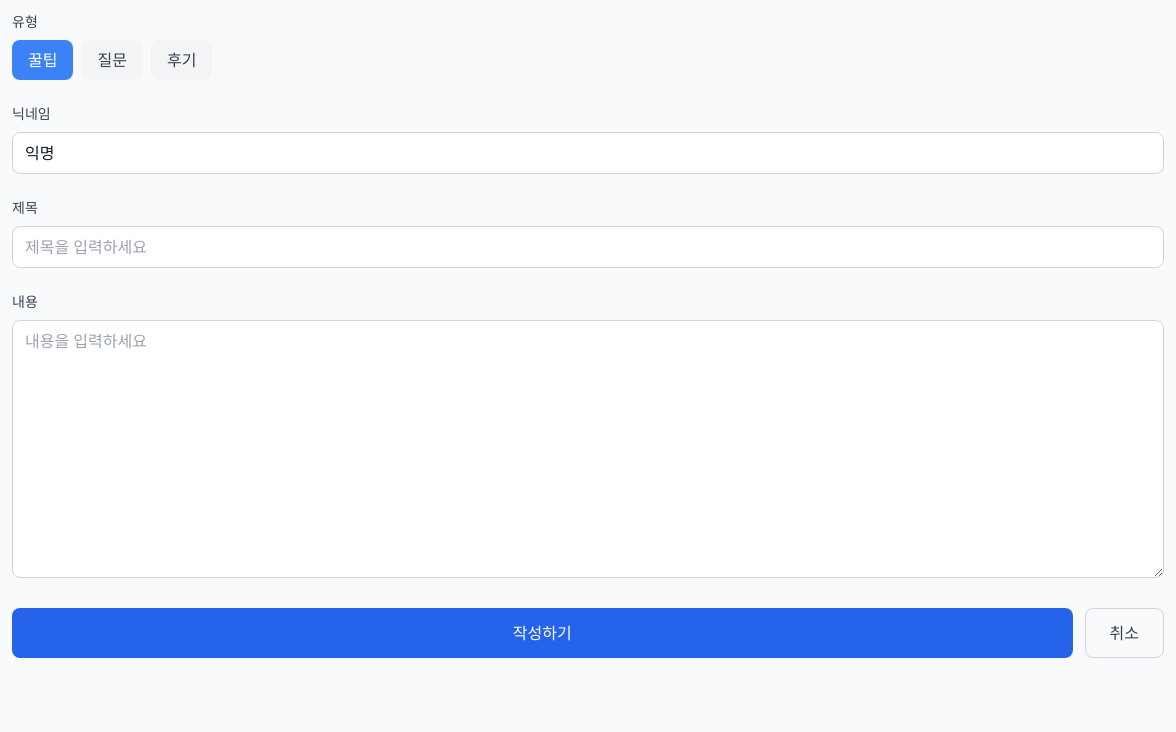
Test: PostForm › should show error when title is empty
Click the button "작성하기".
click(542, 633)  # box [12,608,1072,658]
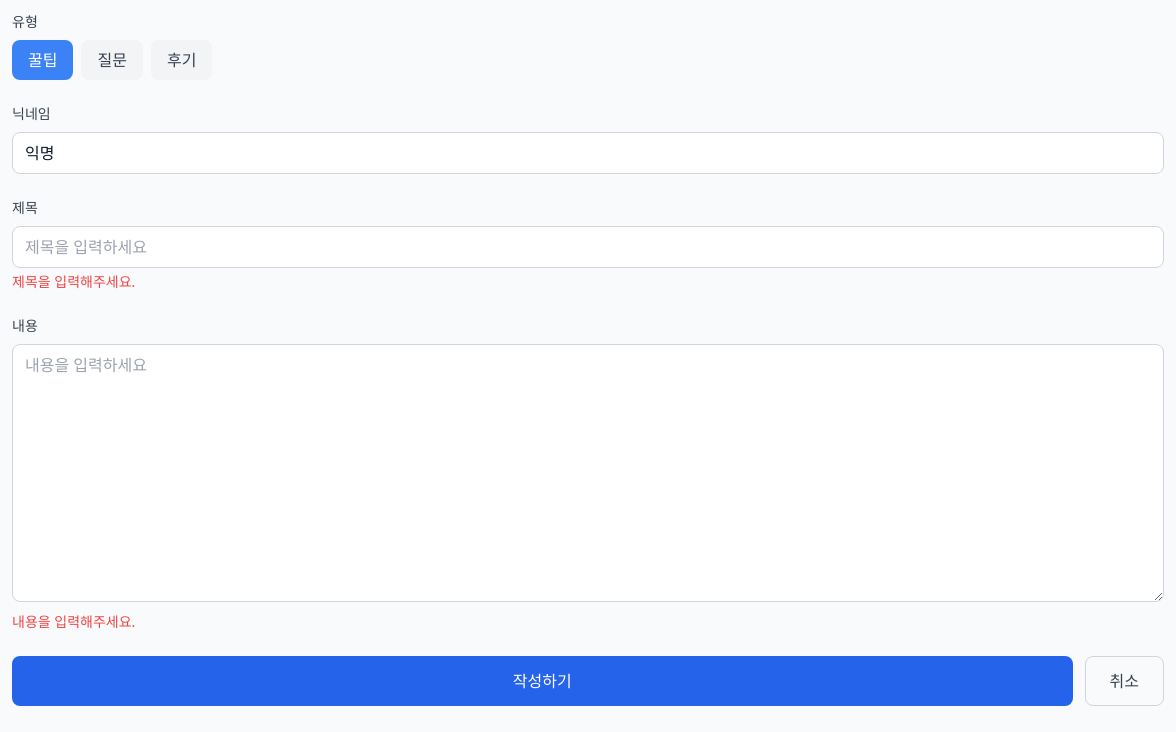
Result: the text "제목을 입력해주세요." is shown at [12,272,135,291]
